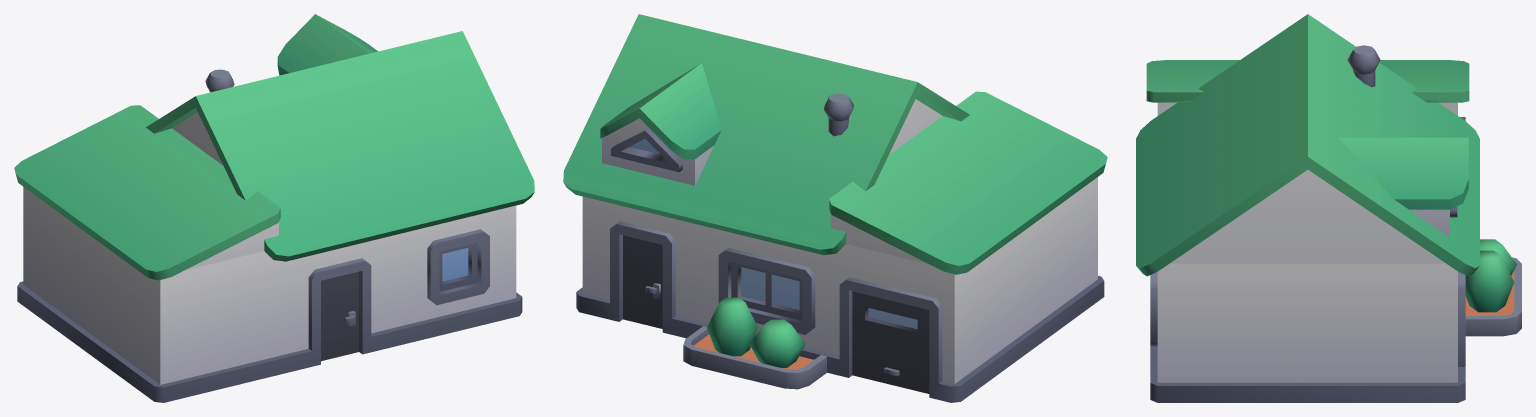
The model's file is house-i.glb.
The picture shows the model from 3 angles, left to right: view 1: azimuth 30°, elevation 25°; view 2: azimuth 150°, elevation 25°; view 3: azimuth 270°, elevation 25°; orthographic projection. The views are drawn at different scales.
Visible parts, largest first — view 1: building-type-i; view 2: building-type-i; view 3: building-type-i.
Part boxes in pixels (x1,y1,x2,y2): building-type-i: (14,14,534,402); building-type-i: (563,14,1107,402); building-type-i: (1136,14,1521,402).
Bounding box in the file's own units: 1.29 × 0.7375 × 1.03.
Materials: 1 (1 with a texture image).
